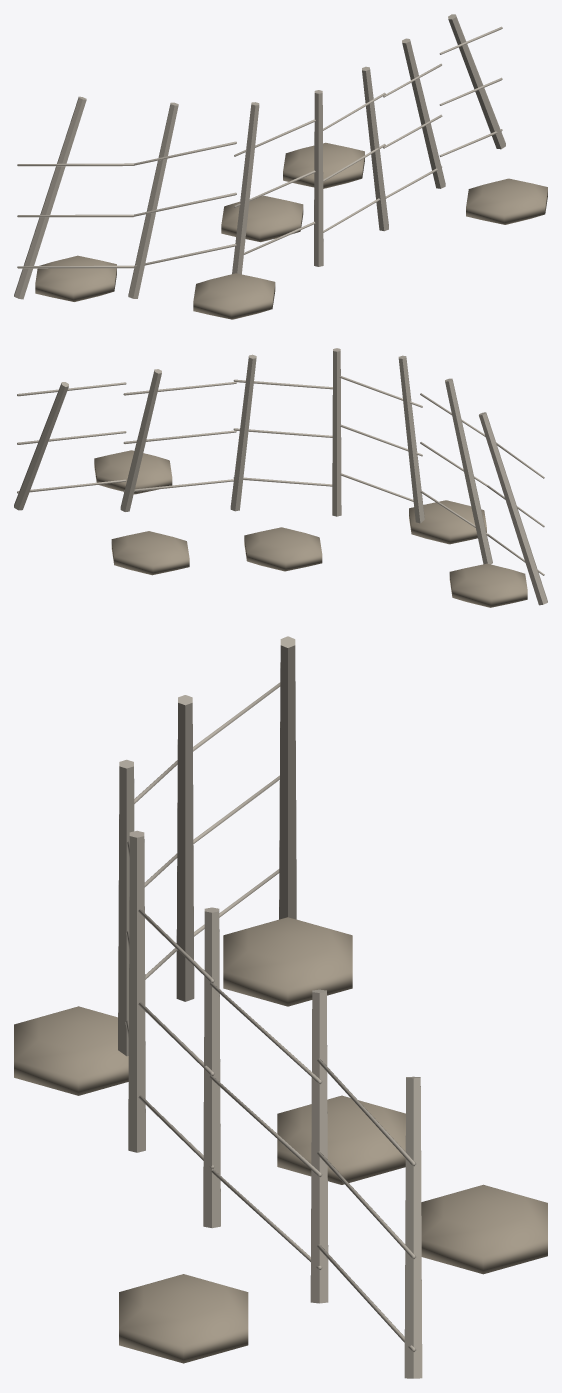
File: trench-line-1917-broken-wire-run-a708e396__24094.glb
3 renders of one model, top to bottom at view 1: azimuth 30°, elevation 25°; view 2: azimuth 150°, elevation 25°; view 3: azimuth 270°, elevation 25°, orthographic. The views are drawn at different scales.
Visible parts, largest first — view 1: broken-wire-run; view 2: broken-wire-run; view 3: broken-wire-run.
Boxes of the visible parts, box(x1,y1,x2,y2) form: broken-wire-run: box(14, 14, 547, 319); broken-wire-run: box(14, 348, 547, 607); broken-wire-run: box(14, 636, 547, 1378).
Bounding box in the file's own units: 3.66 × 1.3 × 1.77.
